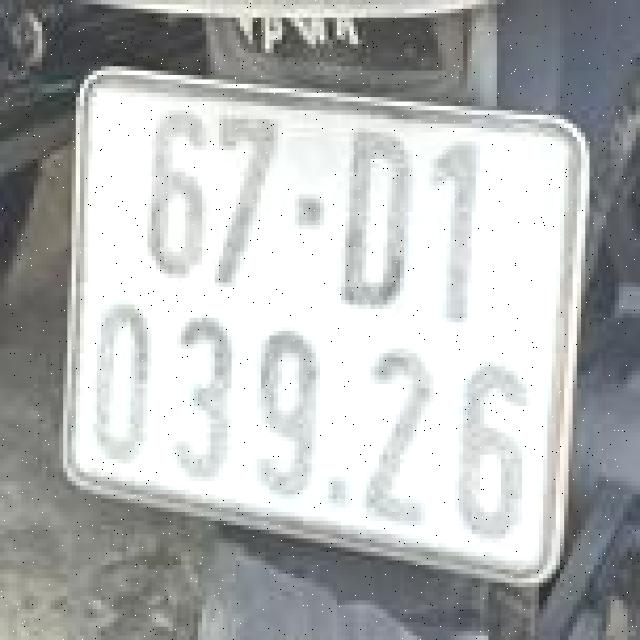0: (82, 289, 162, 488)
1: (428, 117, 490, 333)
2: (366, 340, 442, 525)
3: (154, 291, 238, 503)
6: (444, 342, 545, 554), (128, 93, 208, 291)
7: (211, 95, 282, 298)
9: (233, 311, 334, 528)
D: (332, 110, 412, 327)
